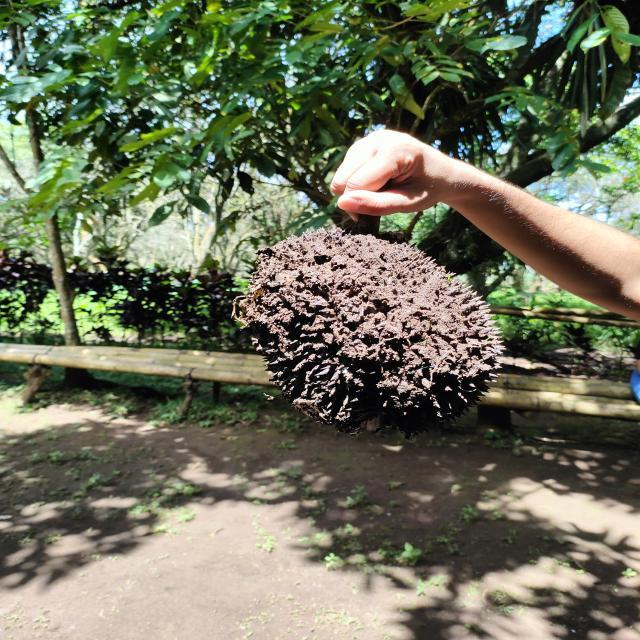defective: (235, 226, 512, 448)
